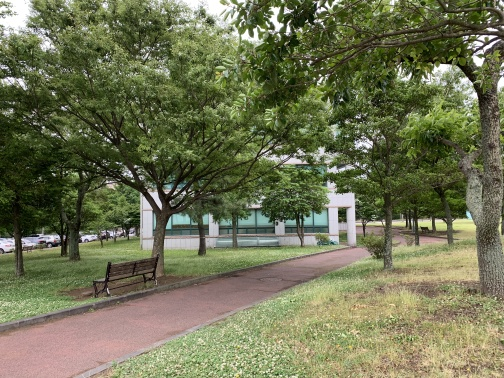Second Library: (142, 182, 361, 252)
